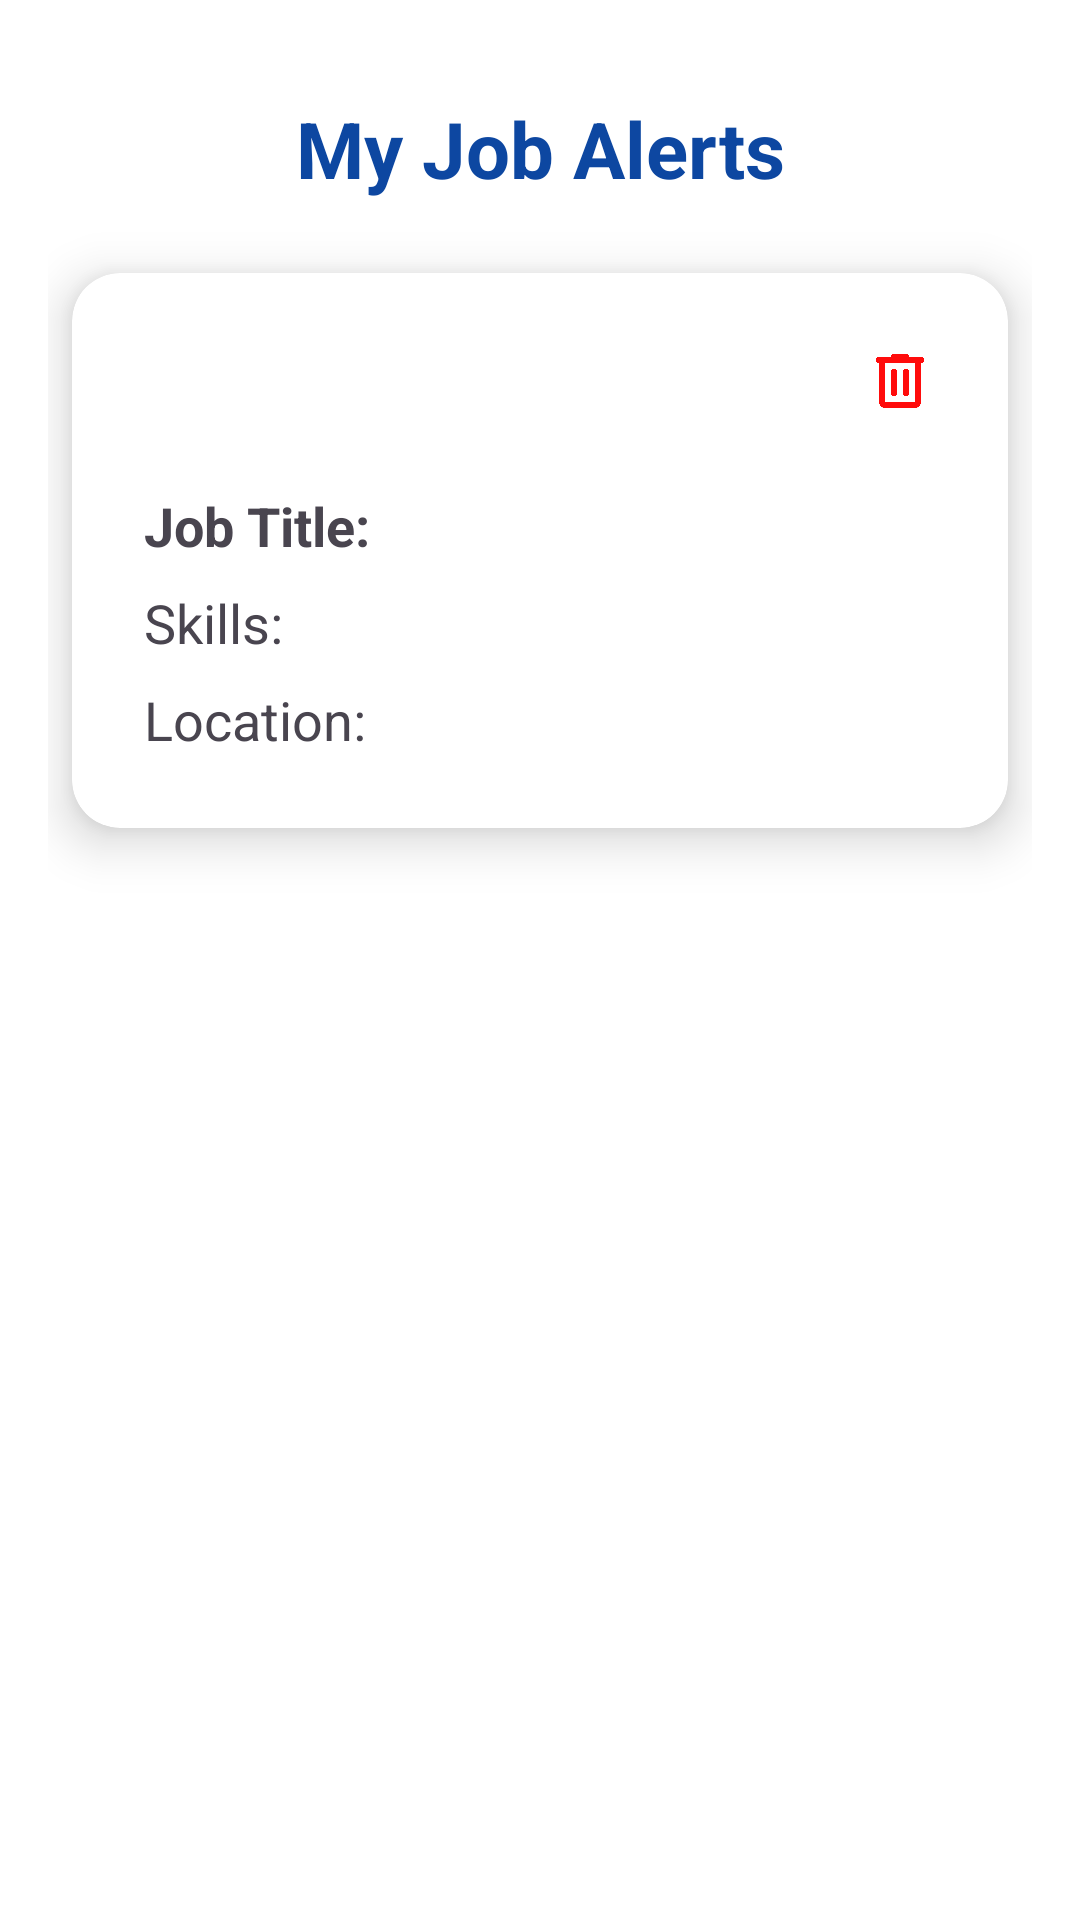

Screen size 1080*1920. Icon name, then its center in pixels as point (x, y):
Delete: point (900, 381)
